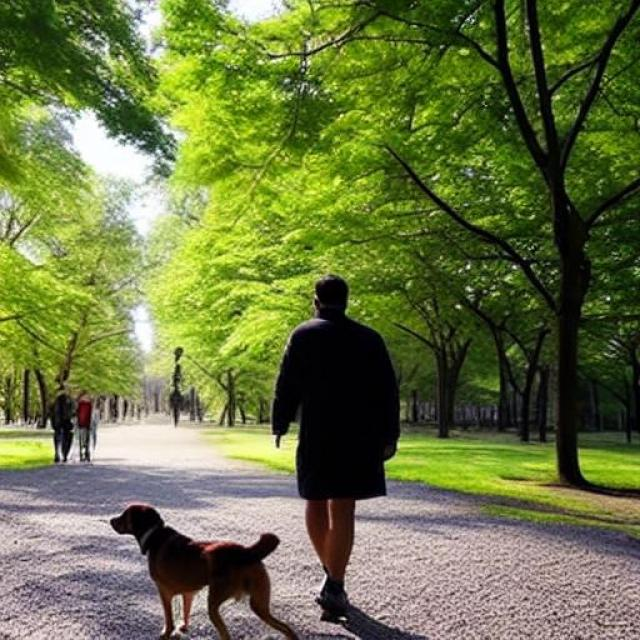Unleashed_Dog: (109, 499, 356, 640)
